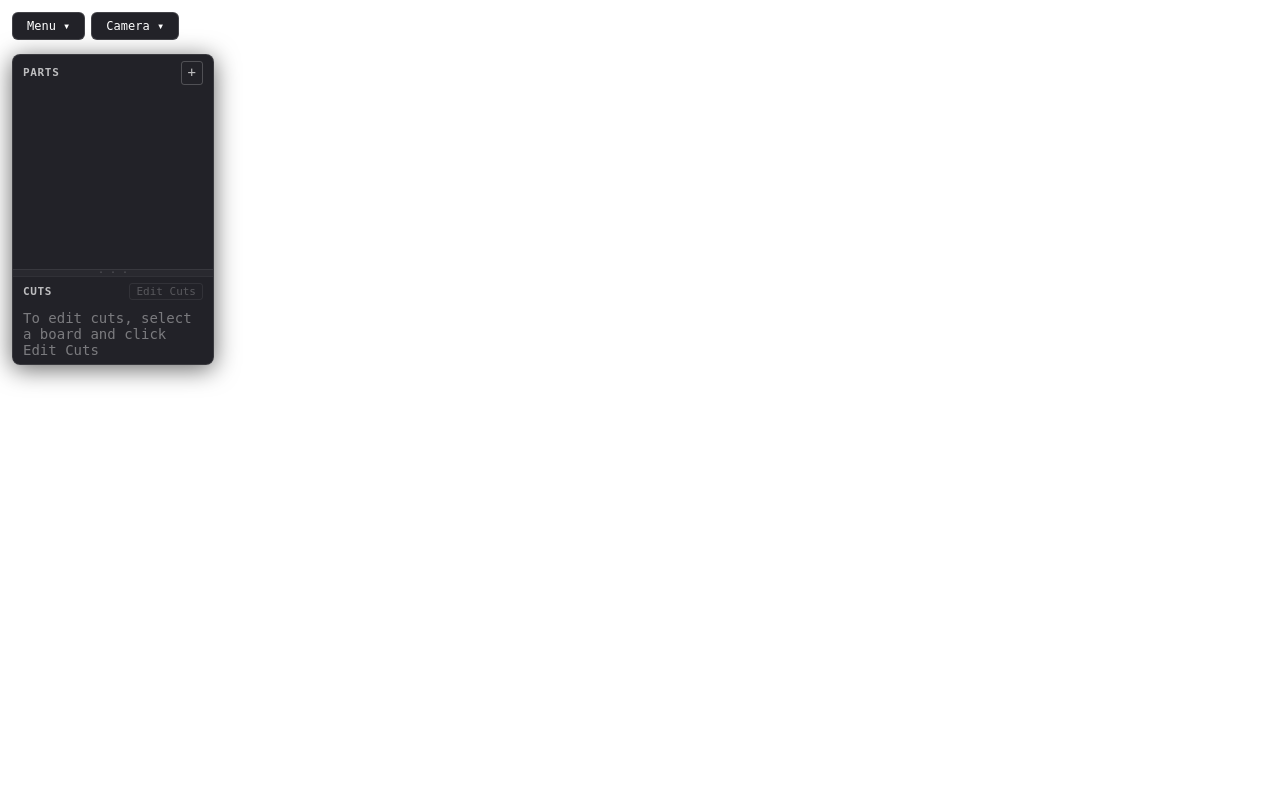
Test case: Top Bar › Clicking backdrop closes open Menu dropdown
Click the button with id "menu-btn". click: [49, 26]
box: [12,12,85,40]
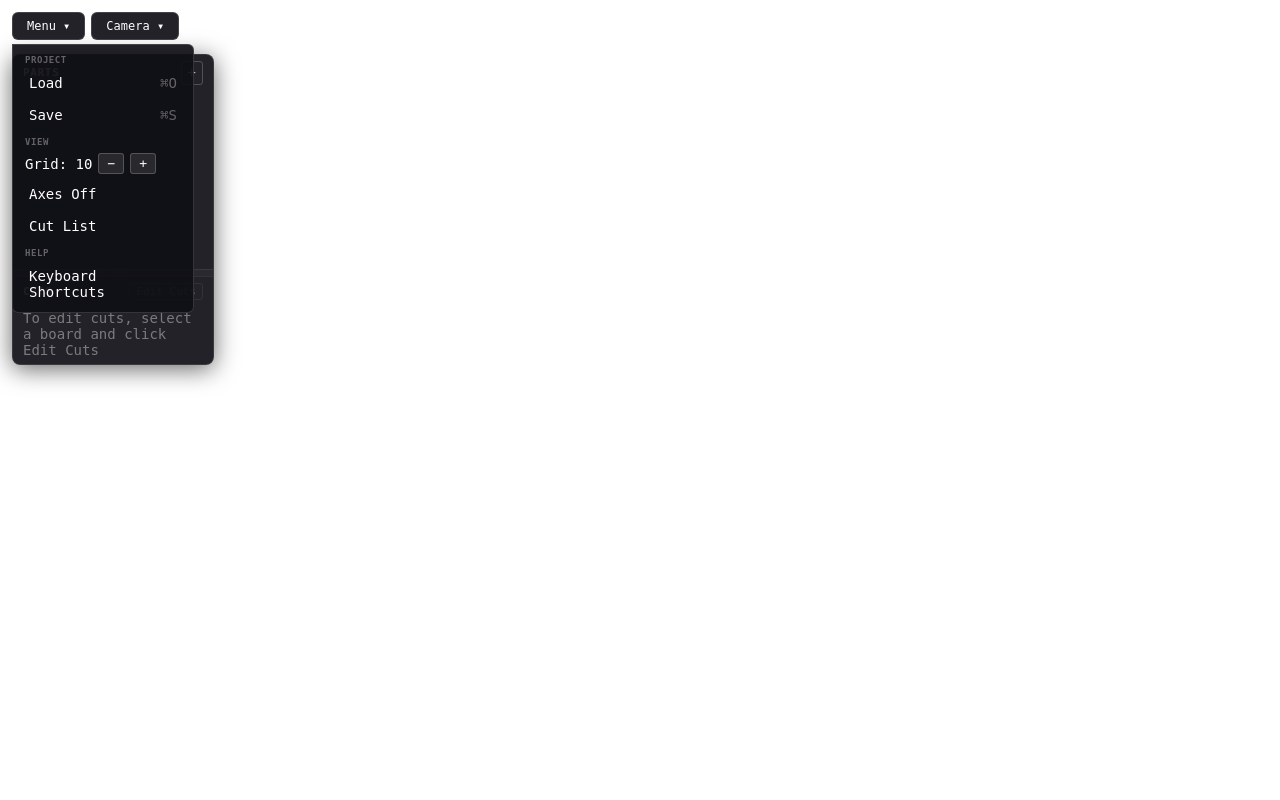
Now the element with id "menu-dropdown" is shown, box [12,44,194,313]
Click the element with class "dropdown-backdrop". click: [640, 400]
box: [0,0,1279,799]
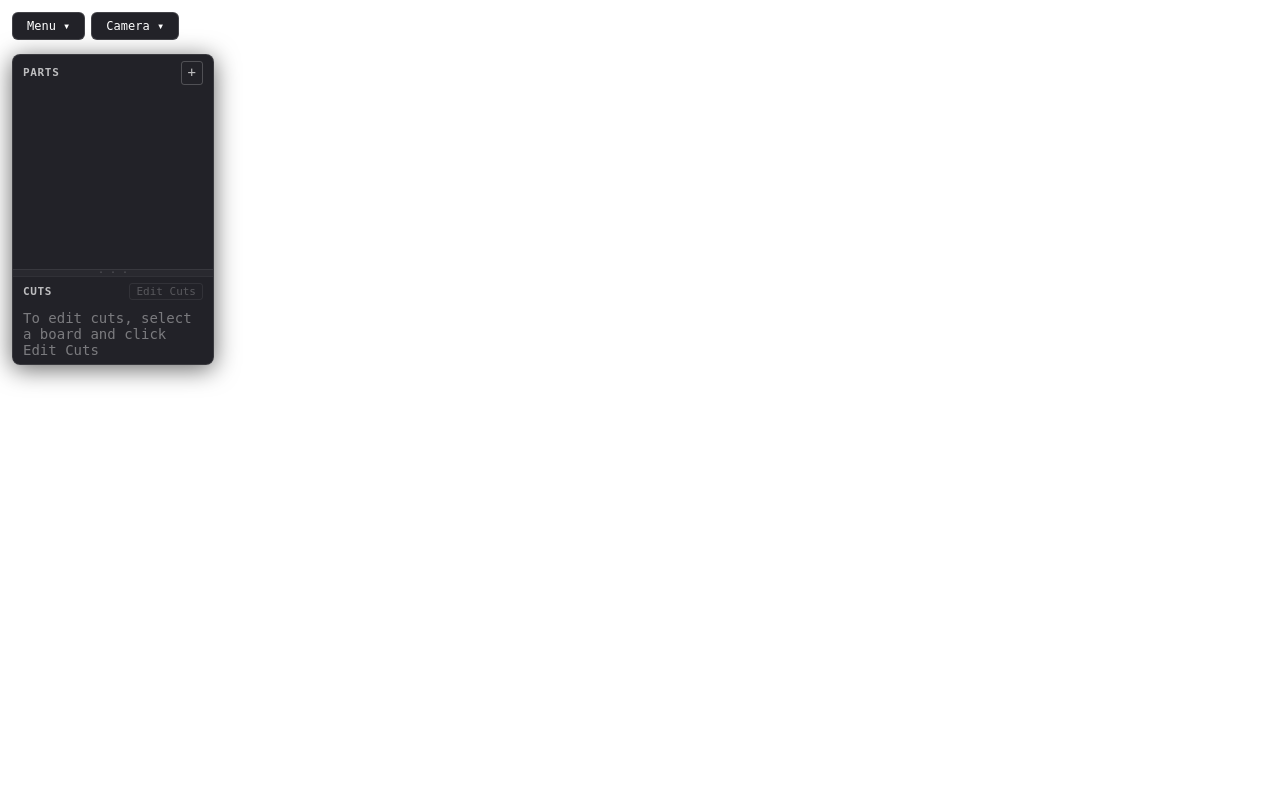
Now the element with id "menu-dropdown" is gone
